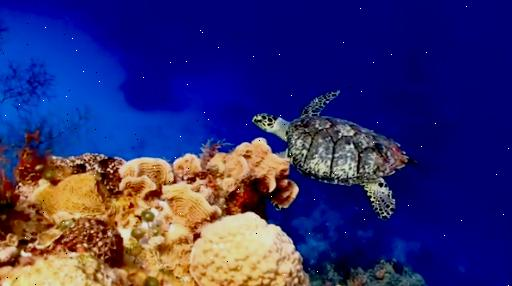Fish: (252, 91, 417, 219)
